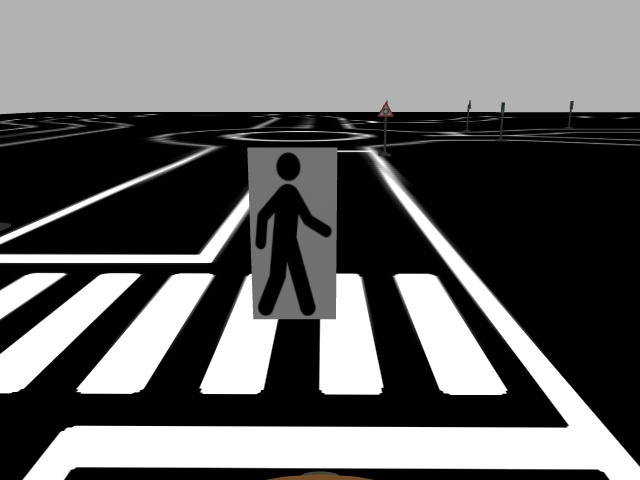pedestrian: (246, 144, 339, 320)
